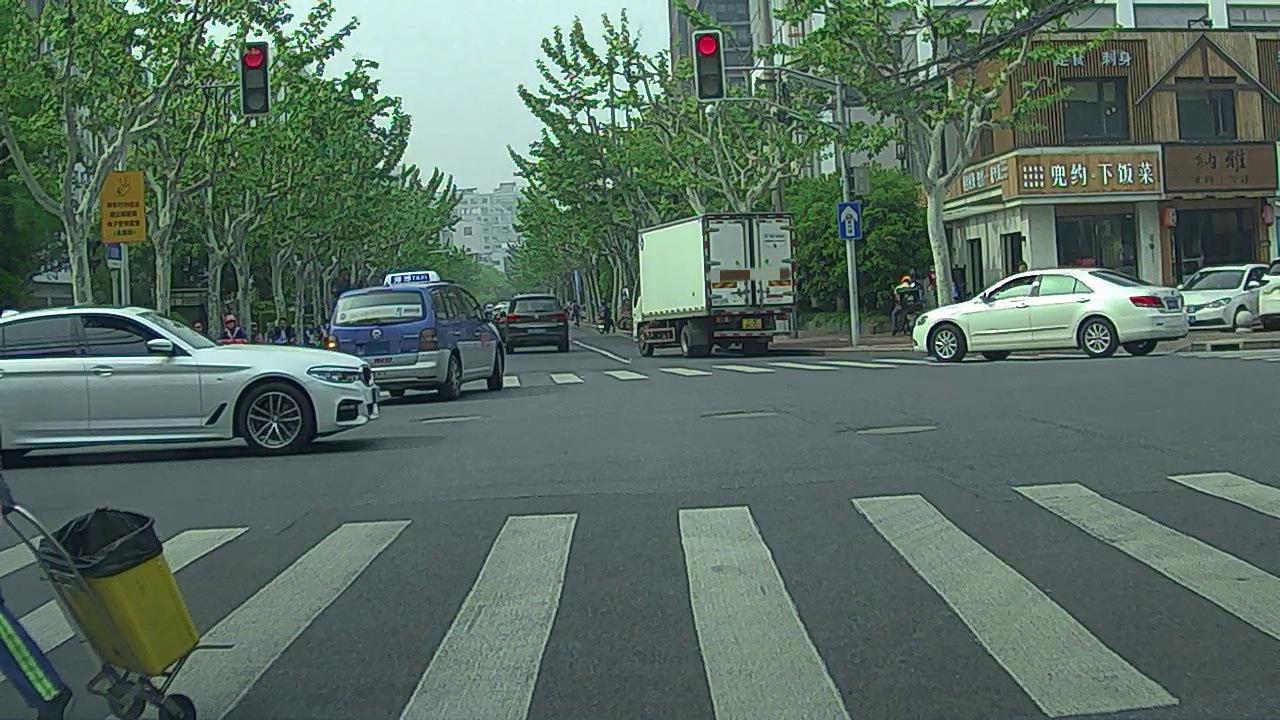traffic_light: (239, 43, 270, 112), (695, 32, 725, 97)
